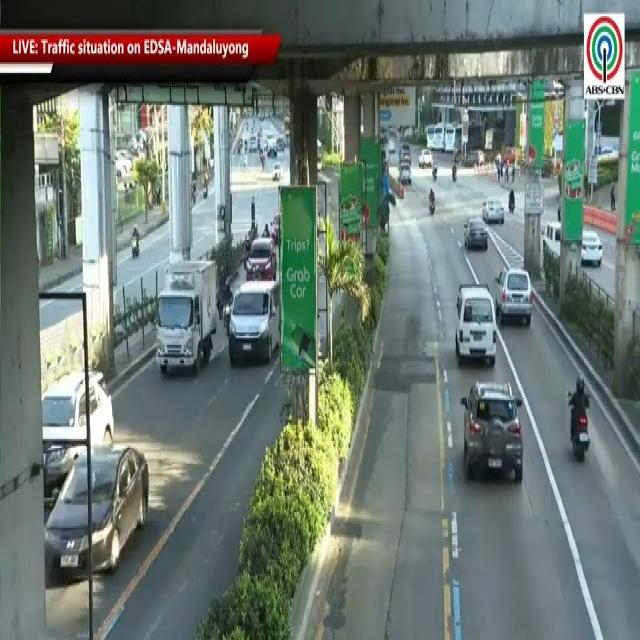car: (42, 444, 152, 582), (35, 368, 120, 516), (471, 382, 522, 480), (452, 281, 496, 368), (496, 265, 534, 332), (244, 233, 284, 290), (464, 213, 484, 265), (482, 199, 505, 229)
motorbike: (562, 368, 592, 469), (220, 283, 232, 338), (130, 222, 142, 260), (427, 186, 439, 216), (508, 189, 516, 212)
truck: (152, 260, 218, 370)
